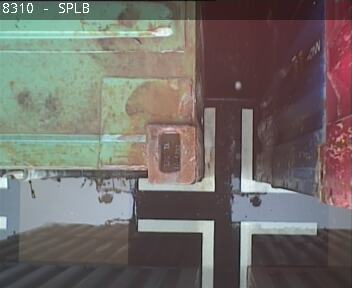groundmarker_1: (137, 109, 303, 191), (139, 218, 315, 288)
